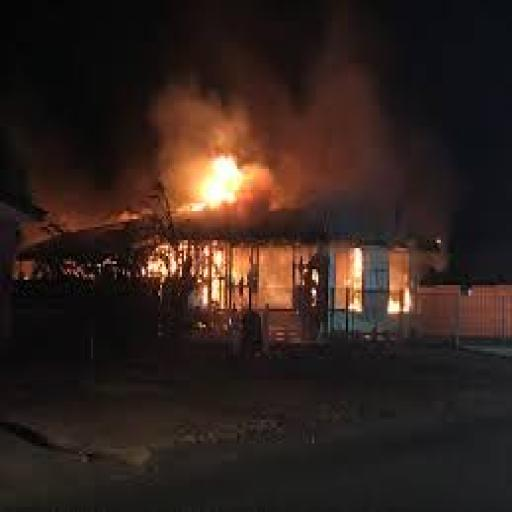fire: (194, 137, 243, 214)
